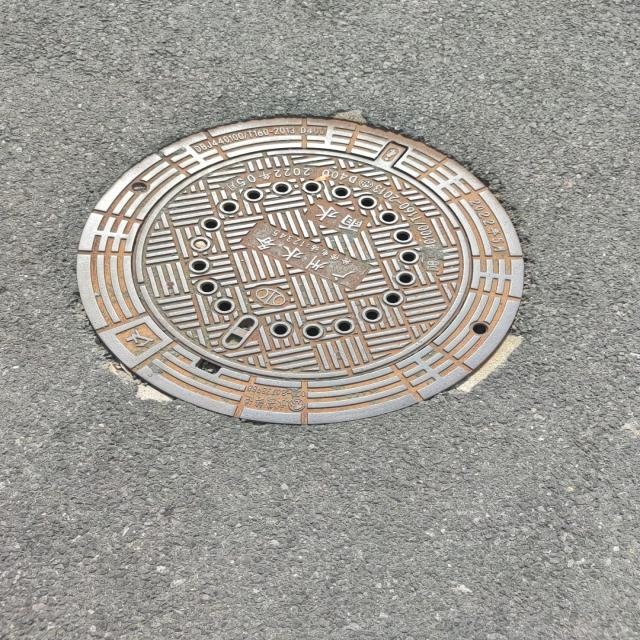Good: (68, 109, 537, 436)
